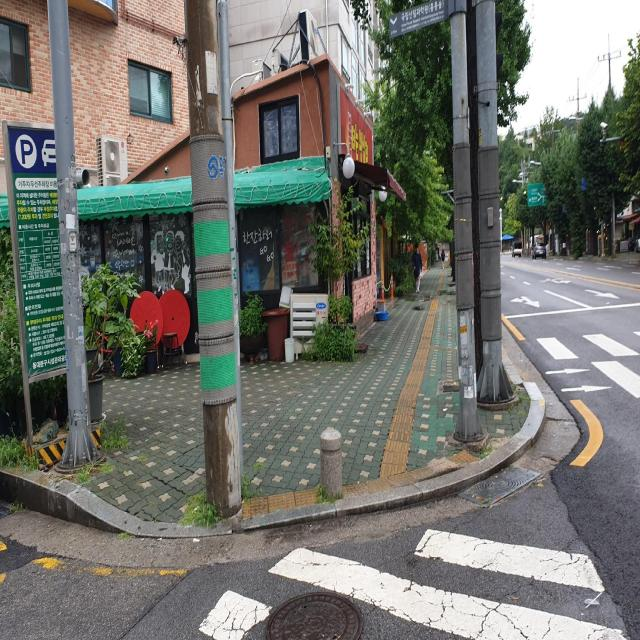electric pole ahead at: (182, 1, 254, 531), (442, 1, 512, 445)
